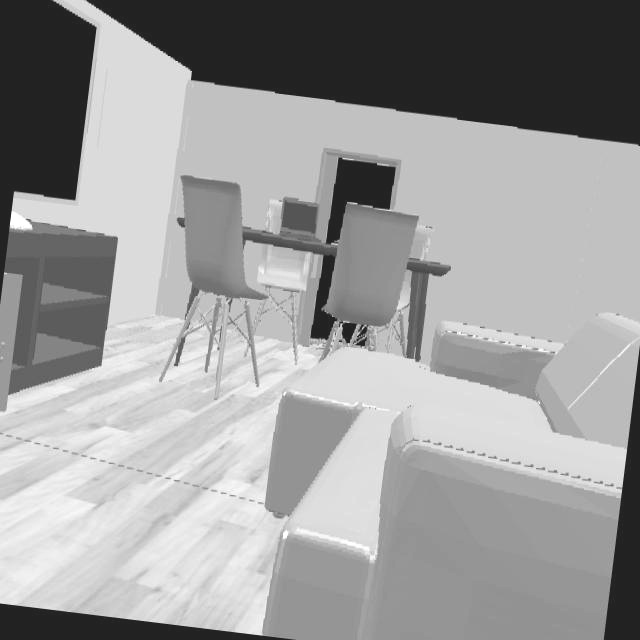bookshelf: (4, 222, 116, 390)
chair: (159, 175, 309, 395), (323, 203, 431, 358), (266, 202, 282, 234)
laptop: (281, 201, 320, 240)
monitor: (13, 0, 99, 203), (10, 212, 29, 229)
sofa: (264, 315, 640, 640)
table: (406, 259, 450, 359), (242, 229, 336, 257)
